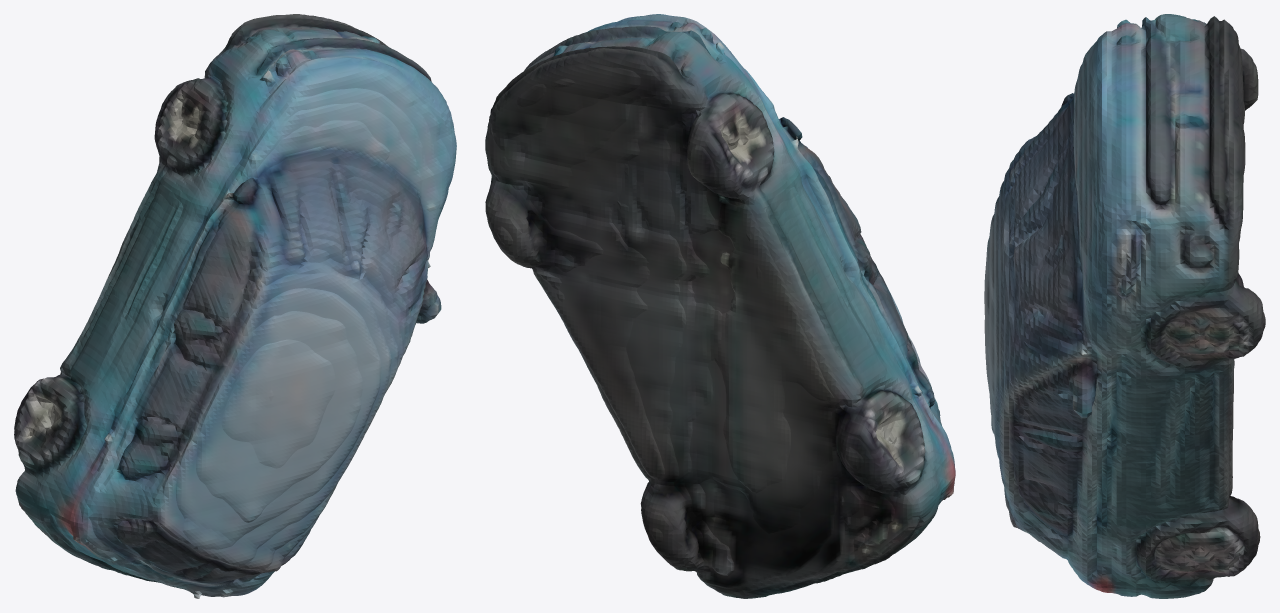
3 renders of one model, left to right at view 1: azimuth 30°, elevation 25°; view 2: azimuth 150°, elevation 25°; view 3: azimuth 270°, elevation 25°, orthographic. The views are drawn at different scales.
Visible parts, largest first — view 1: world; view 2: world; view 3: world.
Boxes of the visible parts, x1,y1,x2,y2 form: world: [14, 14, 456, 598]; world: [485, 14, 955, 598]; world: [984, 14, 1265, 598].
Size of the model in its own units: 0.7774 by 0.948 by 0.3928.
